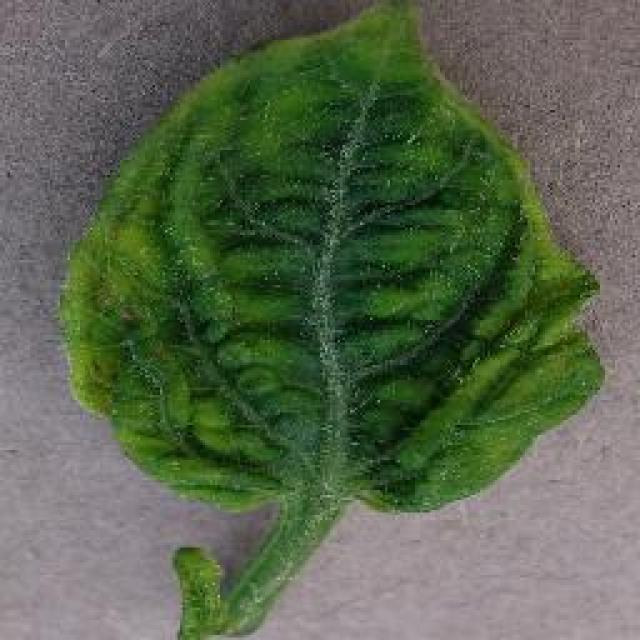Tomato yellow virus leaf: (65, 0, 597, 525)
